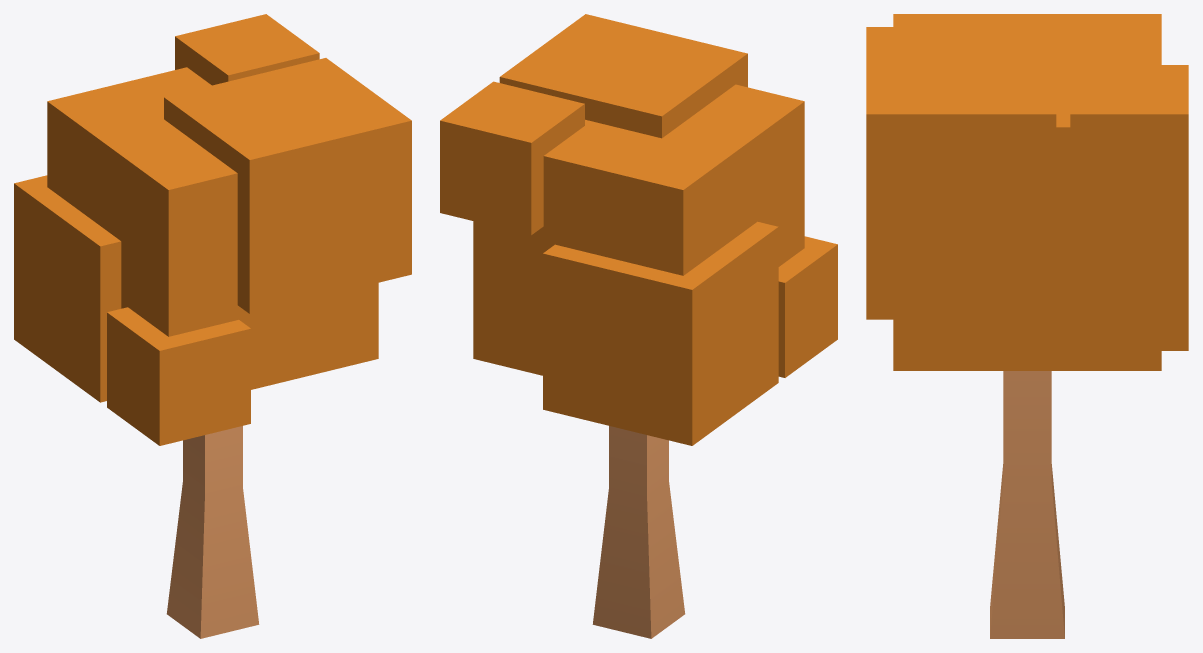
The model's file is tree_blocks_fall.obj.
3 renders of one model, left to right at view 1: azimuth 30°, elevation 25°; view 2: azimuth 150°, elevation 25°; view 3: azimuth 270°, elevation 25°, orthographic. The views are drawn at different scales.
Parts seen in each view (by area): view 1: tree_blocks_fall; view 2: tree_blocks_fall; view 3: tree_blocks_fall.
Boxes of the visible parts, x1=… form: tree_blocks_fall: x1=14, y1=14, x2=411, y2=638; tree_blocks_fall: x1=440, y1=14, x2=837, y2=638; tree_blocks_fall: x1=866, y1=14, x2=1188, y2=638.
Size of the model in its own units: 6 by 11.85 by 6.
